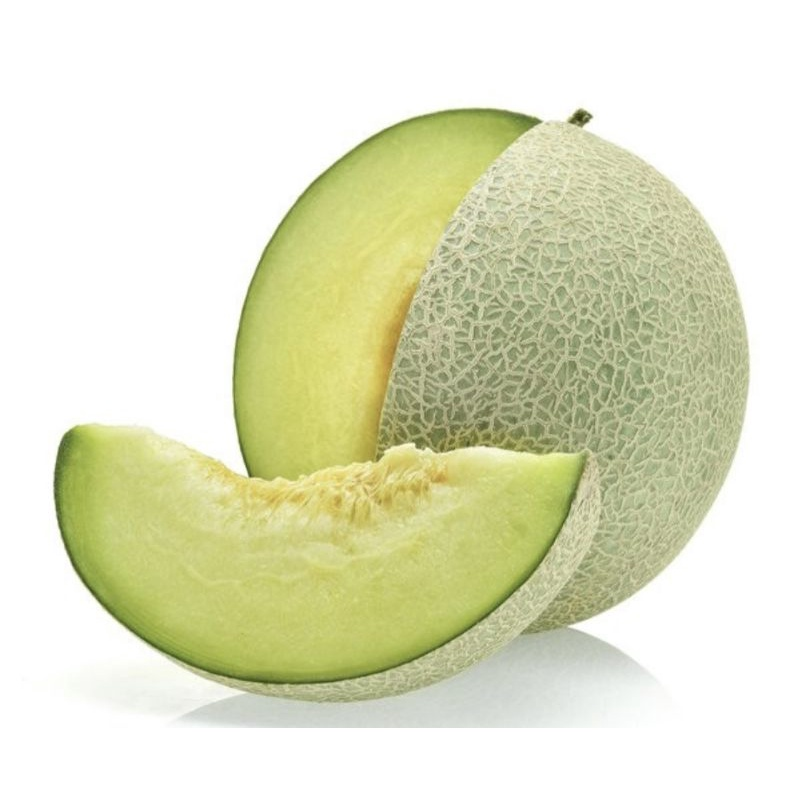Melon: (16, 427, 612, 708)
